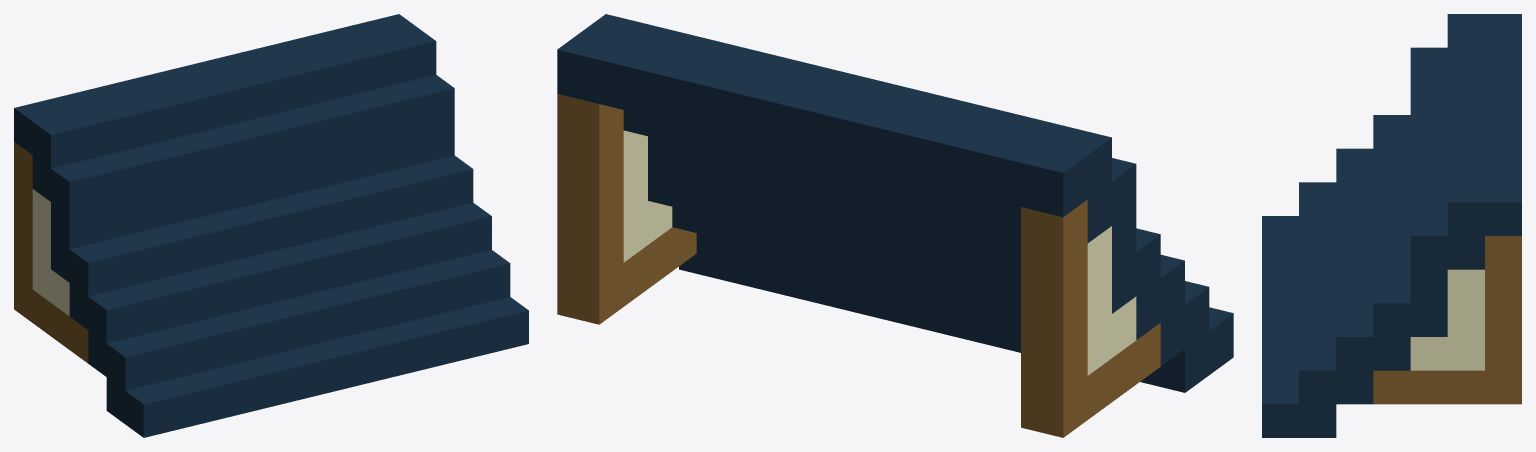
File: small thatch roof 2.glb
The picture shows the model from 3 angles, left to right: view 1: azimuth 30°, elevation 25°; view 2: azimuth 150°, elevation 25°; view 3: azimuth 270°, elevation 25°; orthographic projection. The views are drawn at different scales.
Parts seen in each view (by area): view 1: pl0; view 2: pl0; view 3: pl0.
Boxes of the visible parts, x1,y1,x2,y2 form: pl0: [14, 14, 528, 437]; pl0: [557, 14, 1233, 437]; pl0: [1262, 14, 1521, 437].
Size of the model in its own units: 1.2 by 0.7 by 0.7.
1 material, 1 textured.
